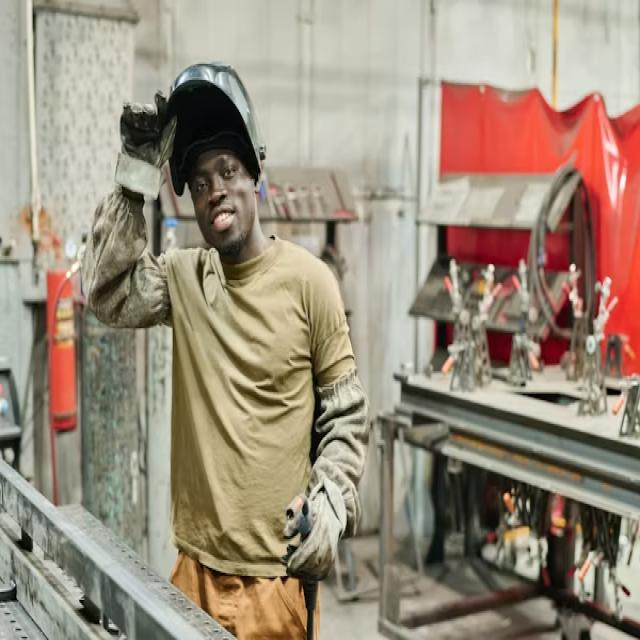helmet_lifted: (132, 45, 293, 268)
